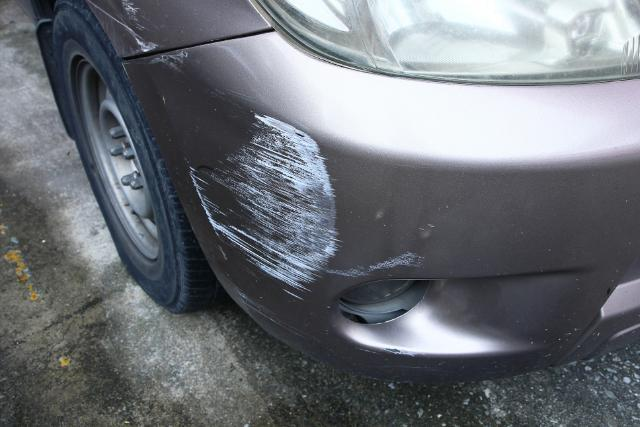Bumper: (160, 52, 460, 287)
Fender: (77, 0, 256, 48)
